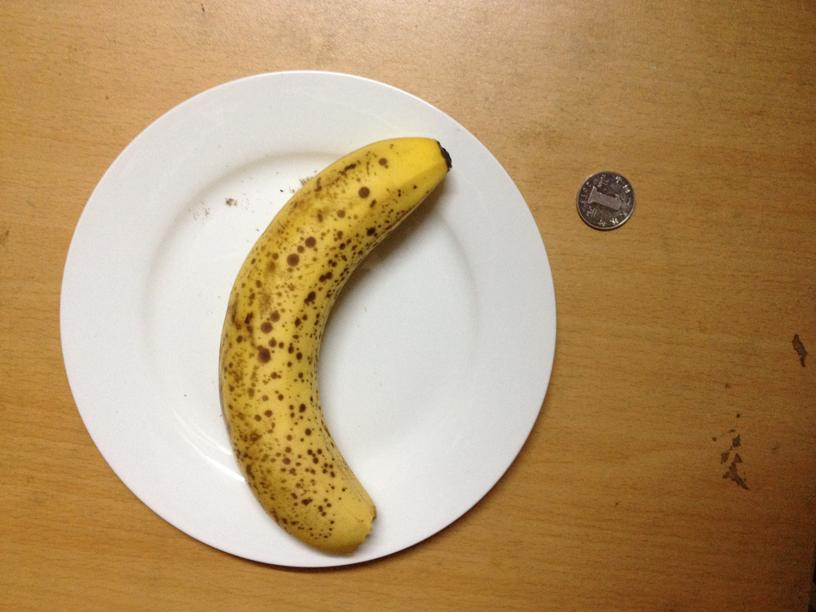banana: (217, 137, 446, 548)
coin: (573, 167, 635, 230)
